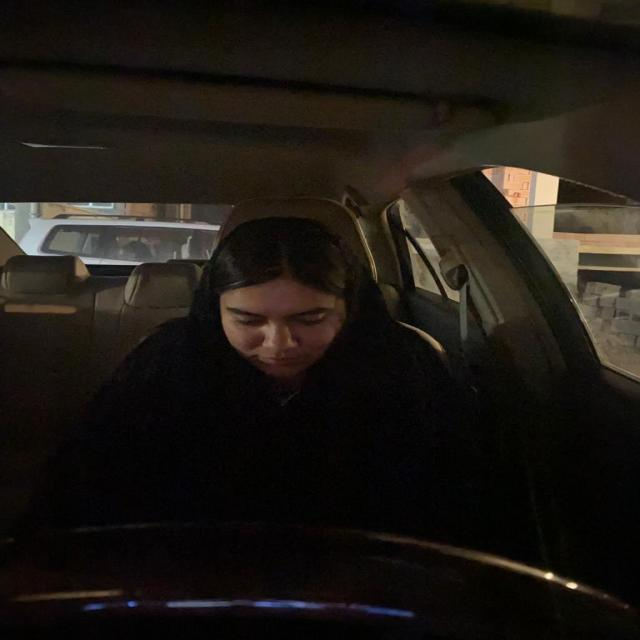drowsy: (217, 244, 369, 386)
